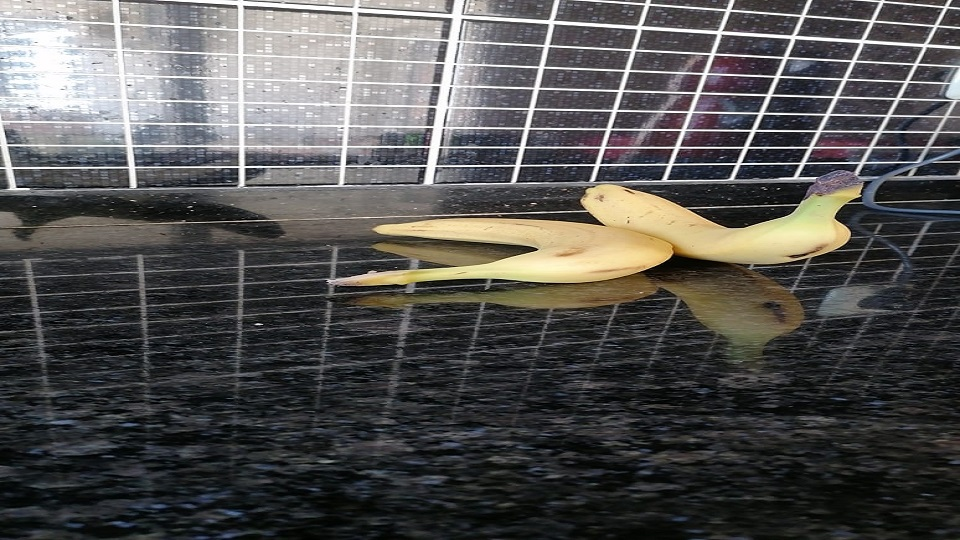muz: (579, 169, 853, 266), (371, 218, 675, 286)
